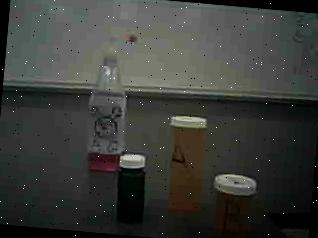Bottle A: (160, 112, 211, 218)
Bottle B: (207, 171, 259, 238)
Bottle C: (112, 152, 154, 224)
hazard: (80, 24, 138, 173)
